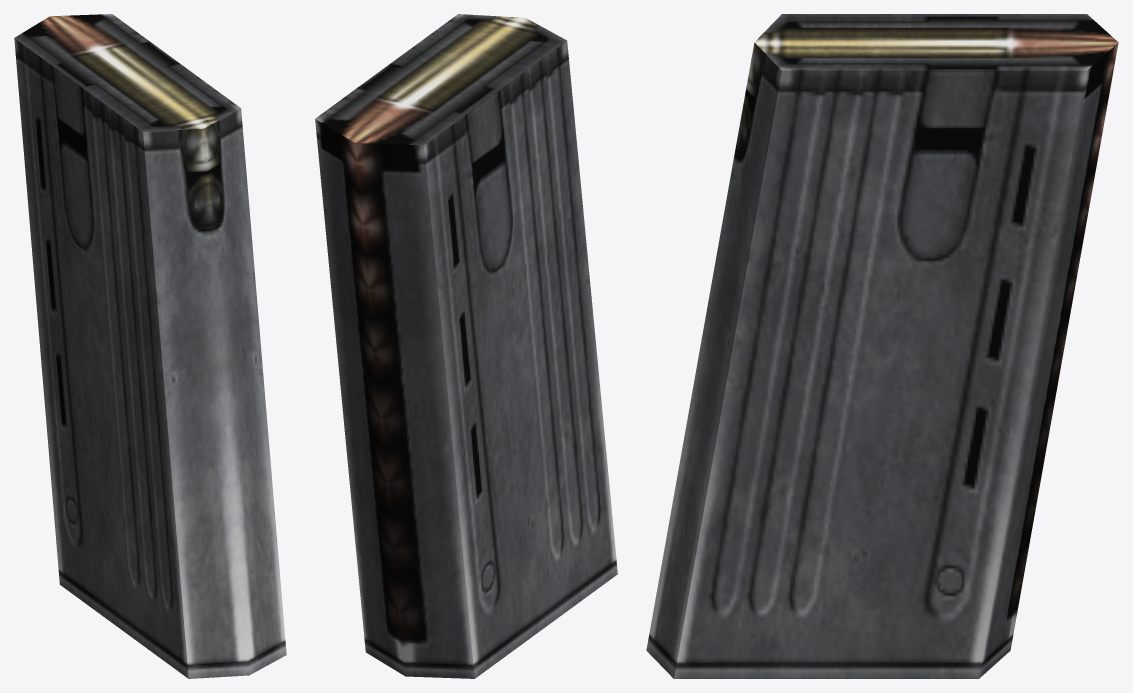
File: HandgunMagazine.fbx
The picture shows the model from 3 angles, left to right: view 1: azimuth 30°, elevation 25°; view 2: azimuth 150°, elevation 25°; view 3: azimuth 270°, elevation 25°; orthographic projection. The views are drawn at different scales.
Visible parts, largest first — view 1: GunMagazine; view 2: GunMagazine; view 3: GunMagazine.
Part boxes in pixels (left/top/right/bottom): GunMagazine: left=14, top=14, right=286, bottom=678; GunMagazine: left=315, top=14, right=617, bottom=678; GunMagazine: left=646, top=14, right=1118, bottom=678.
Size of the model in its own units: 1.8 by 9.03 by 6.35.
